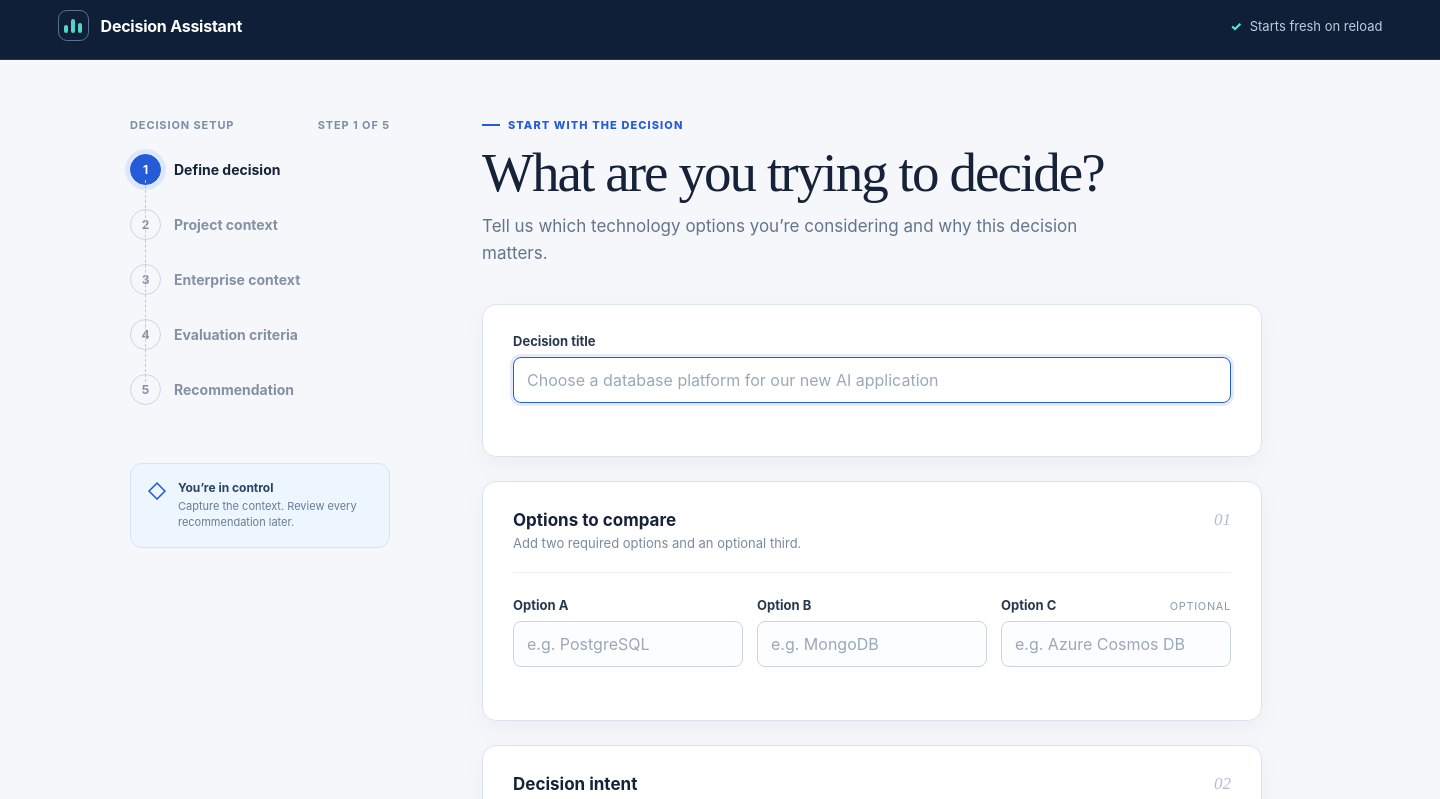
Test: decision setup flow › treats None / Unknown as mutually exclusive
The image size is (1440, 799).
Type "Choose our application database" into the field labelled "Decision title" at (872, 380), box [513,357,1231,403]
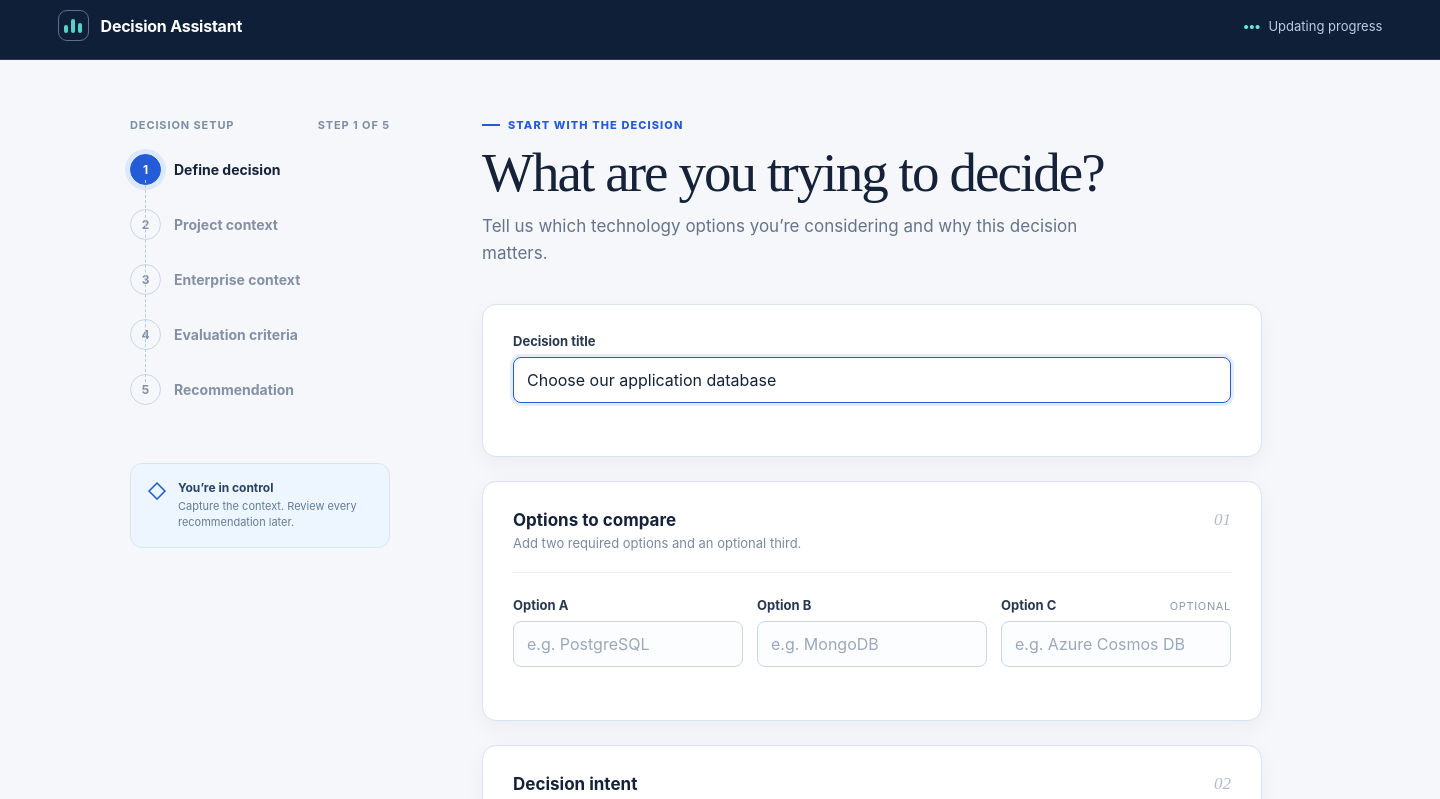
Type "PostgreSQL" into the field labelled "Option A" at (628, 644), box [513,621,743,667]
Type "MongoDB" into the field labelled "Option B" at (872, 644), box [757,621,987,667]
(page scrolled)
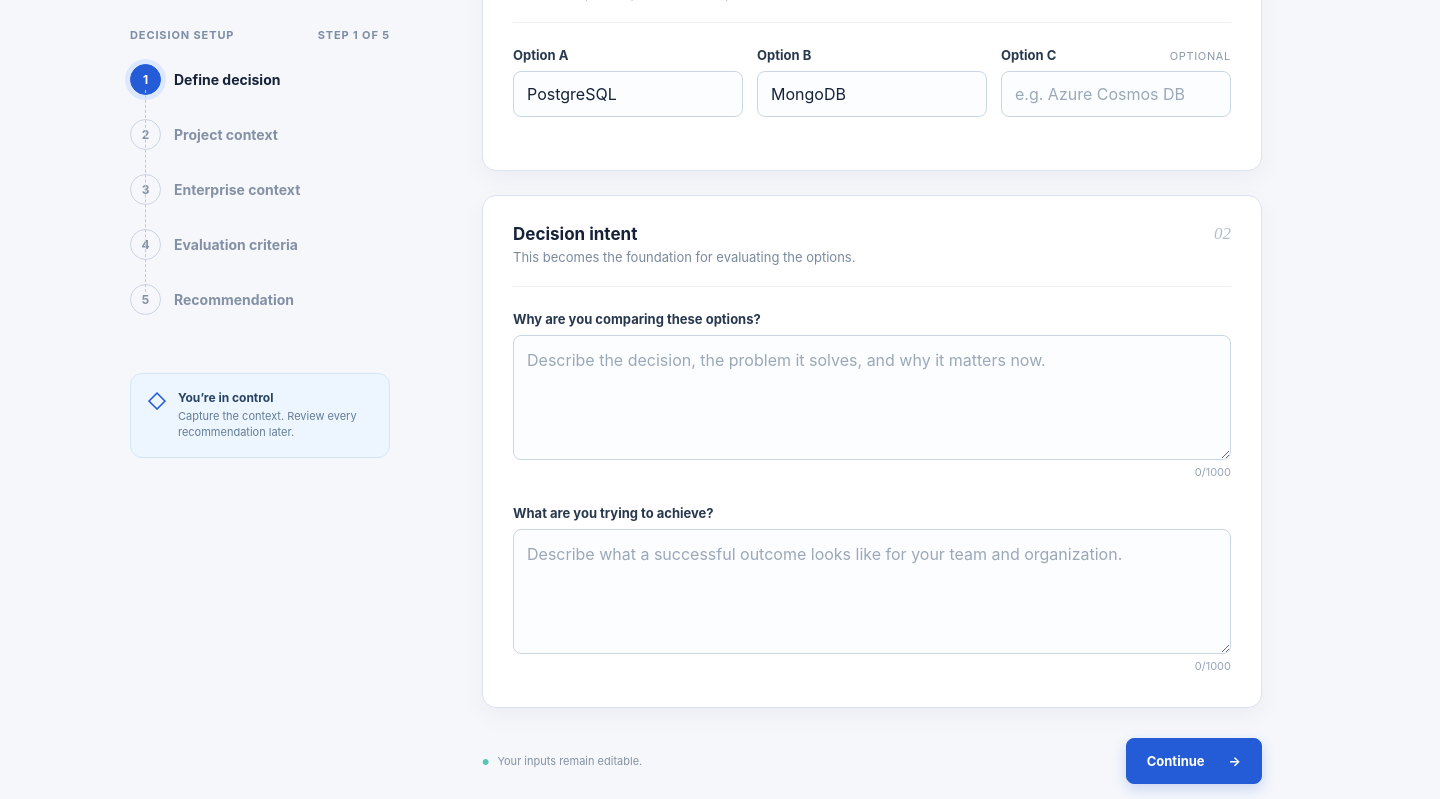
Replace the text in the text box labelled "Why are you comparing these options?" with "We need a durable platform standard." at (872, 397), box [513,335,1231,460]
Replace the text in the text box labelled "What are you trying to achieve?" with "Choose the best fit for our delivery team." at (872, 591), box [513,529,1231,654]
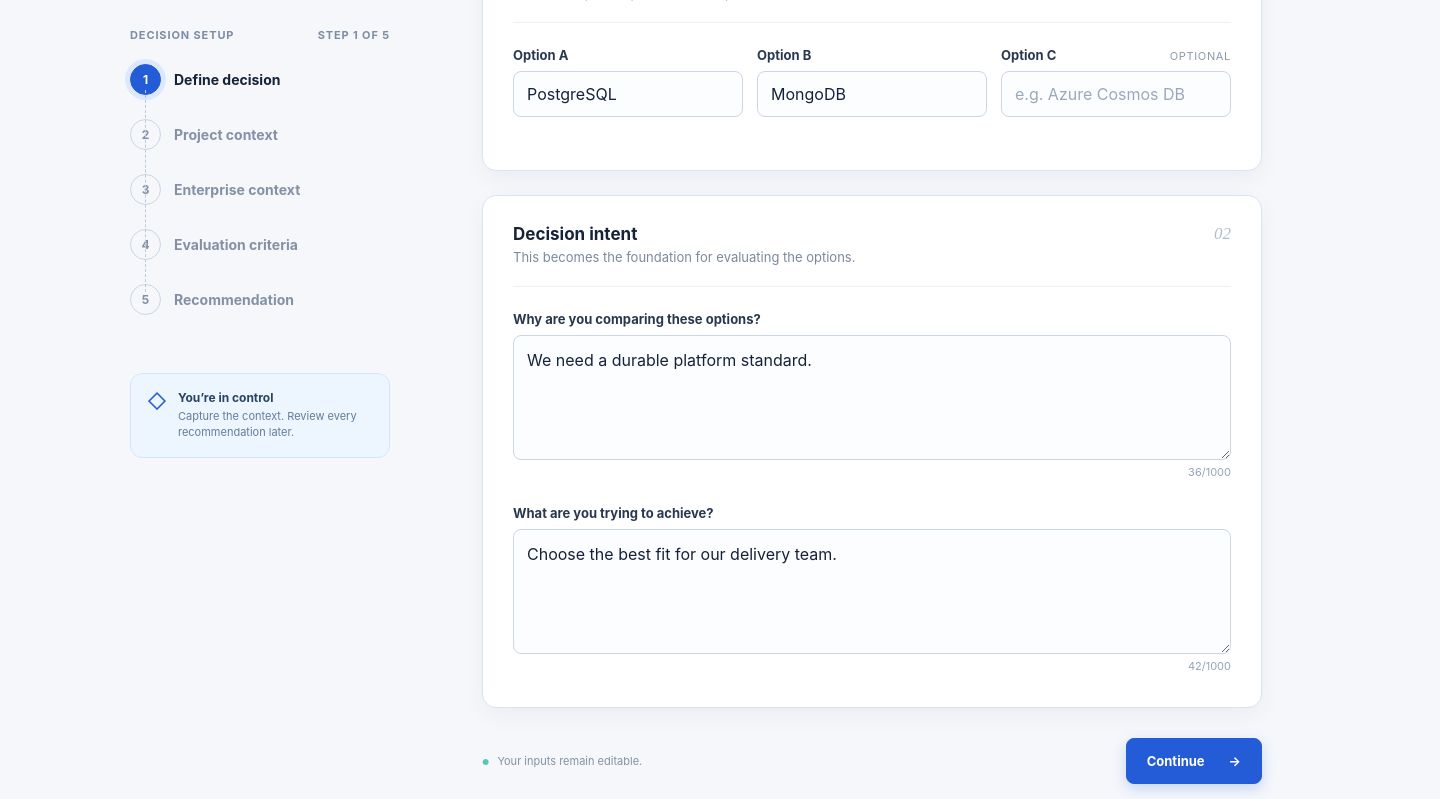
Click the button "Continue →" at (1194, 761), box [1126,738,1262,784]
(page scrolled)
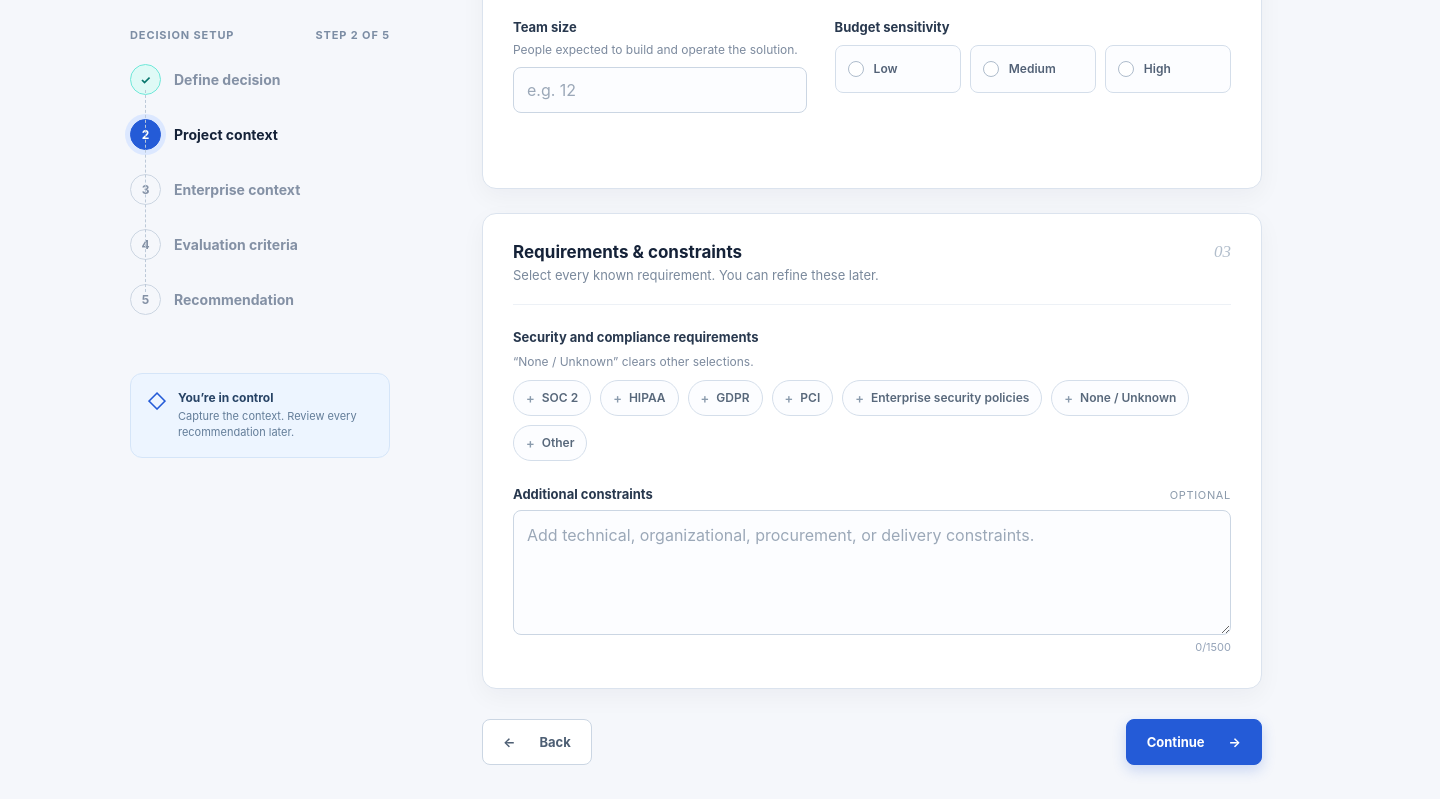
Click the text "HIPAA" at (647, 398), box [629,390,666,405]
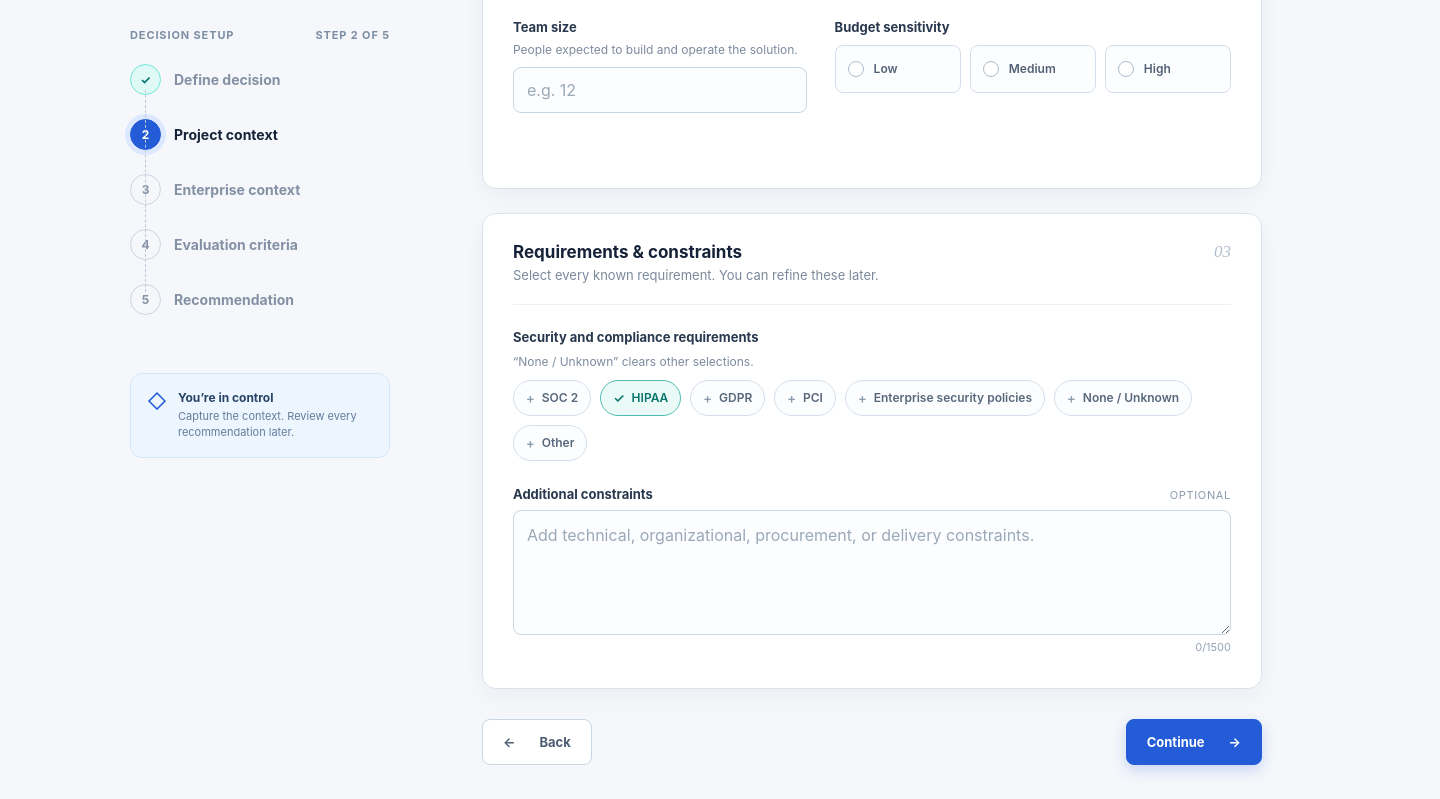
Click the text "None / Unknown" at (1131, 398), box [1083,390,1179,405]
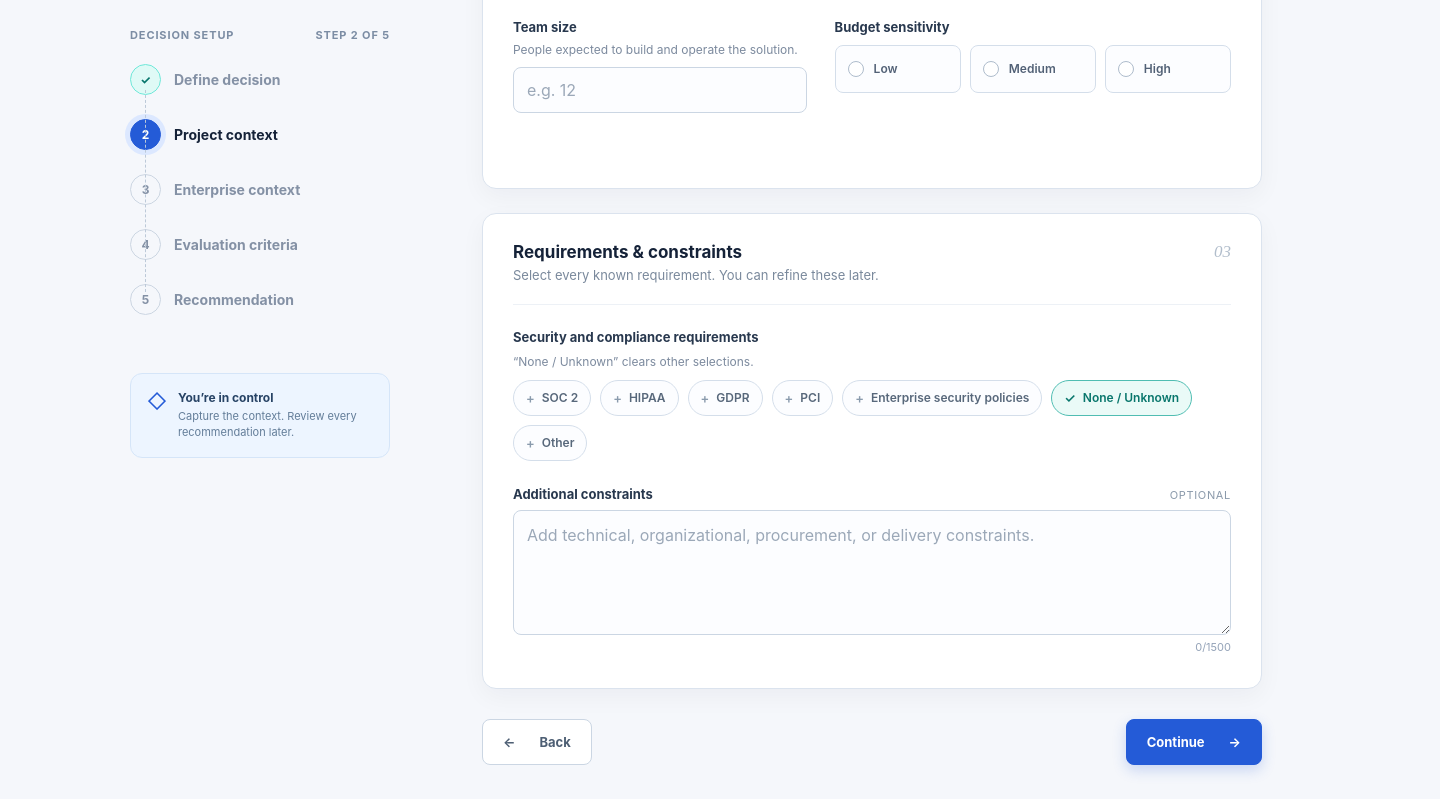
Check: the checkbox with id "compliance-hipaa" is not checked, box [600,380,678,416]
Check: the checkbox with id "compliance-none-unknown" is checked, box [1051,380,1192,416]
